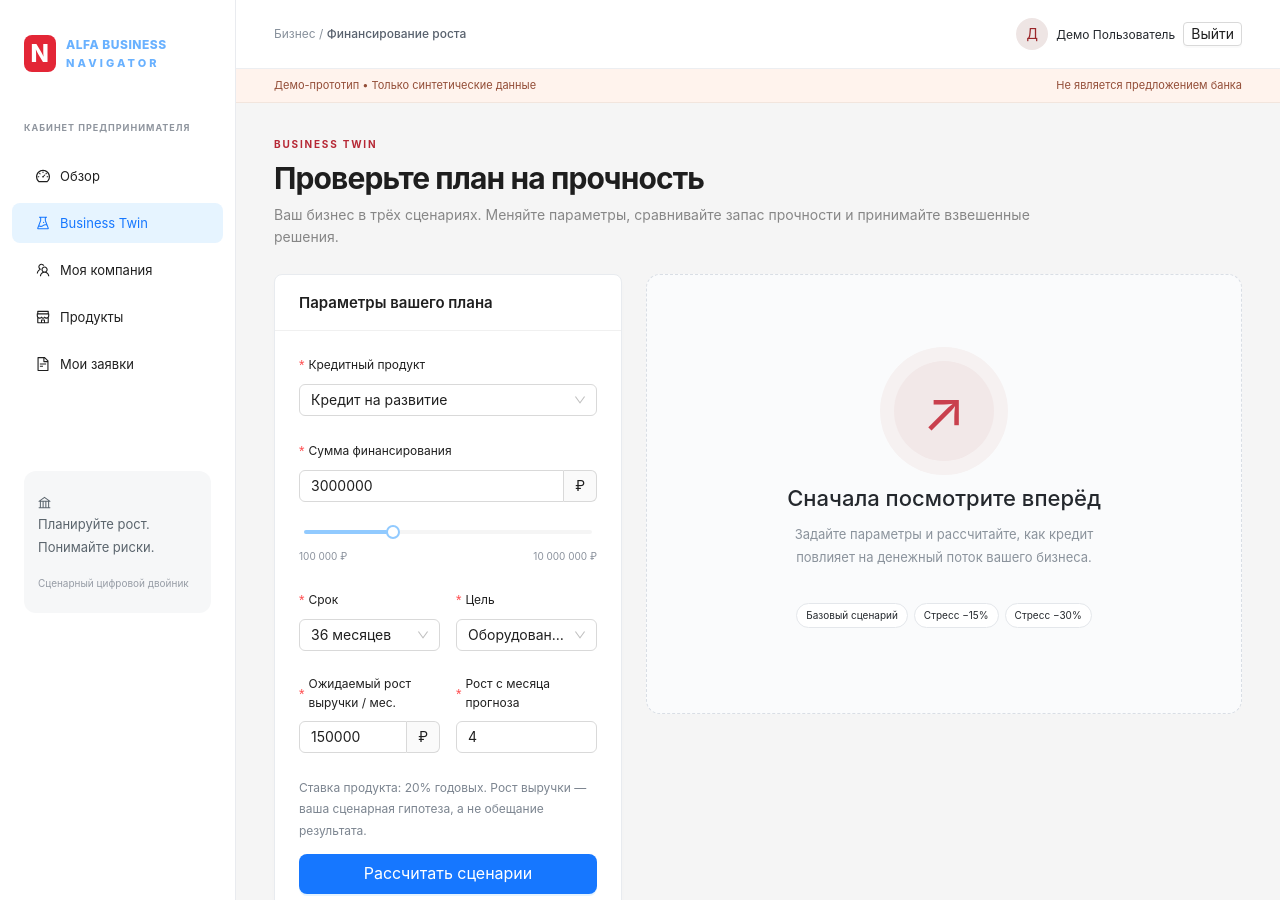
Scenario: Twin and application flow › invalidates displayed simulation immediately when parameters change
Click the button "Рассчитать сценарии" at (448, 874), box 299,854 -> 597,894
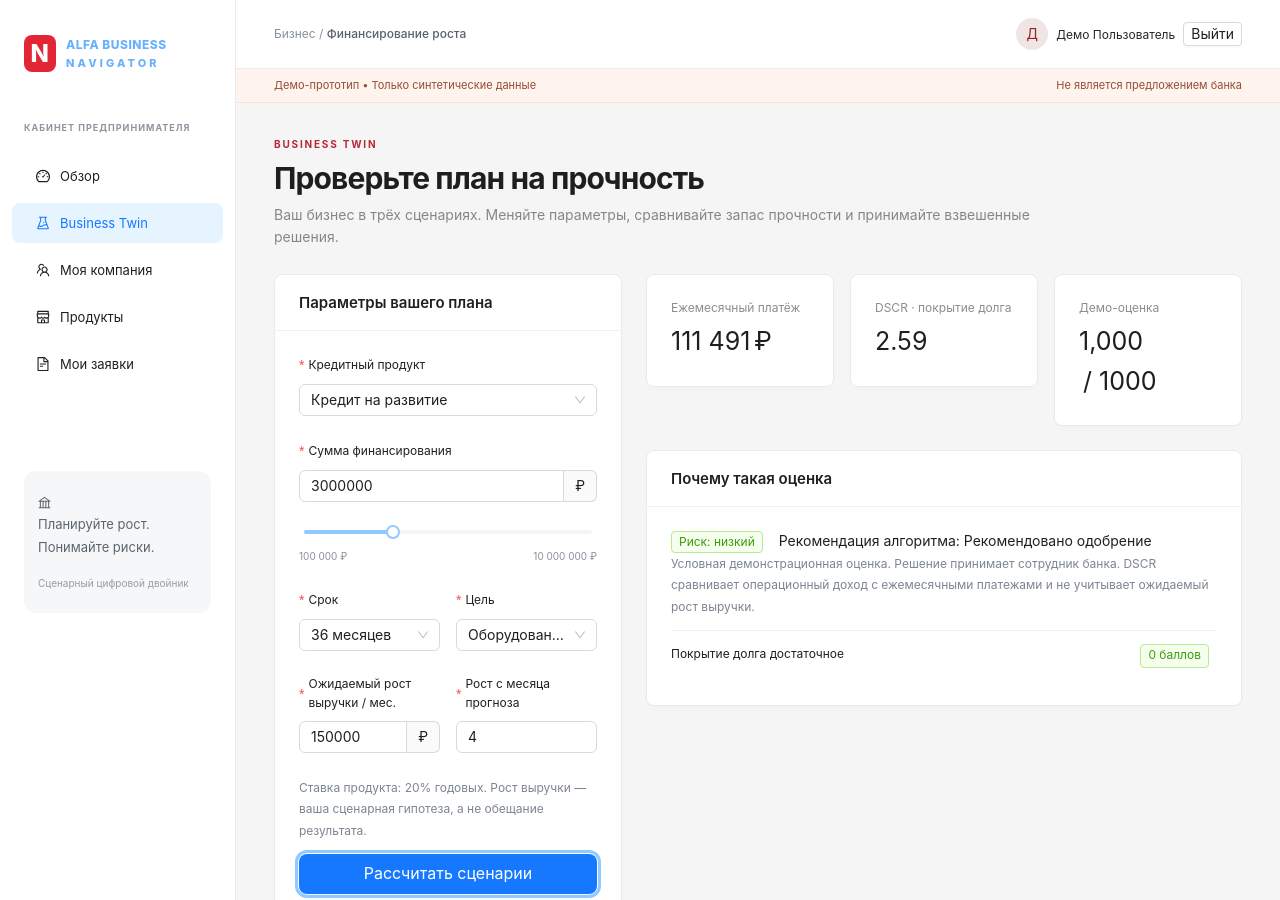
Replace the text in the number field labelled "Сумма финансирования" with "5000000" at (432, 486), box 300,472 -> 563,502
(page scrolled)
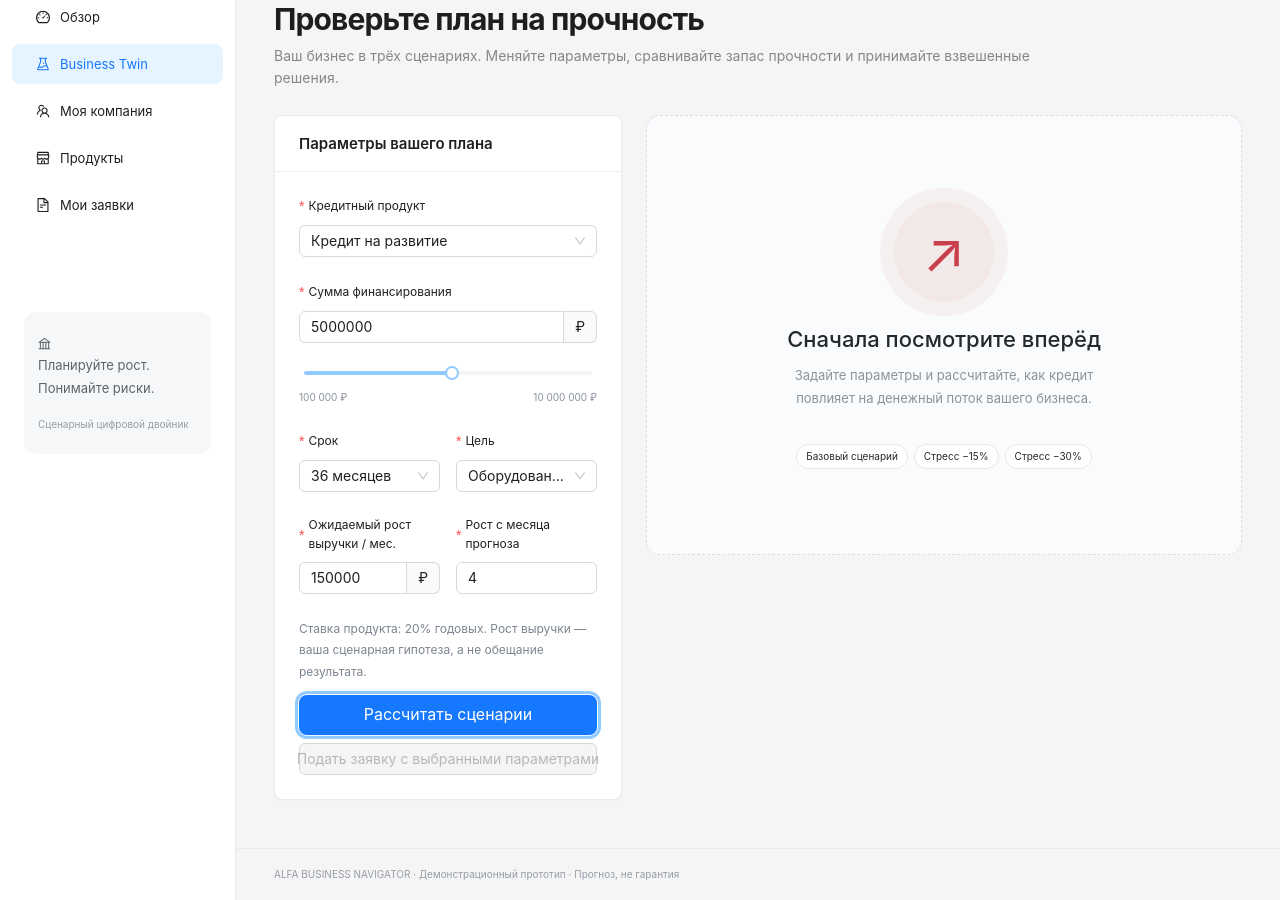
Expected: the button "Подать заявку с выбранными параметрами" is disabled, 299,743 -> 597,775
